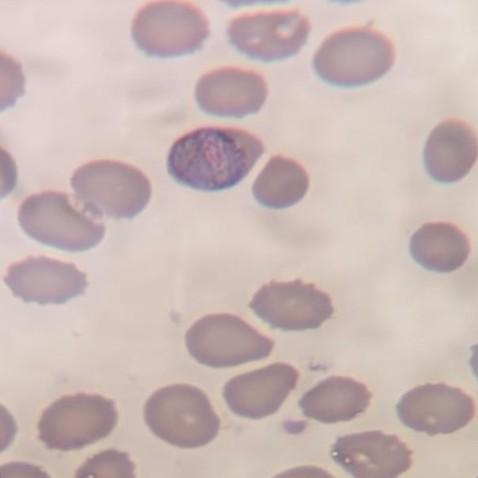Infected: (169, 127, 265, 193)
Uninfected: (16, 189, 109, 253), (141, 383, 220, 451), (181, 311, 273, 367), (312, 28, 397, 88), (69, 162, 154, 218), (396, 379, 475, 437), (5, 254, 88, 308), (39, 390, 116, 448), (133, 0, 211, 57), (249, 280, 333, 332), (229, 10, 309, 63), (329, 430, 411, 478), (226, 363, 295, 419), (198, 65, 270, 117), (424, 118, 478, 184), (301, 375, 372, 422), (410, 218, 468, 272), (254, 155, 310, 210)
